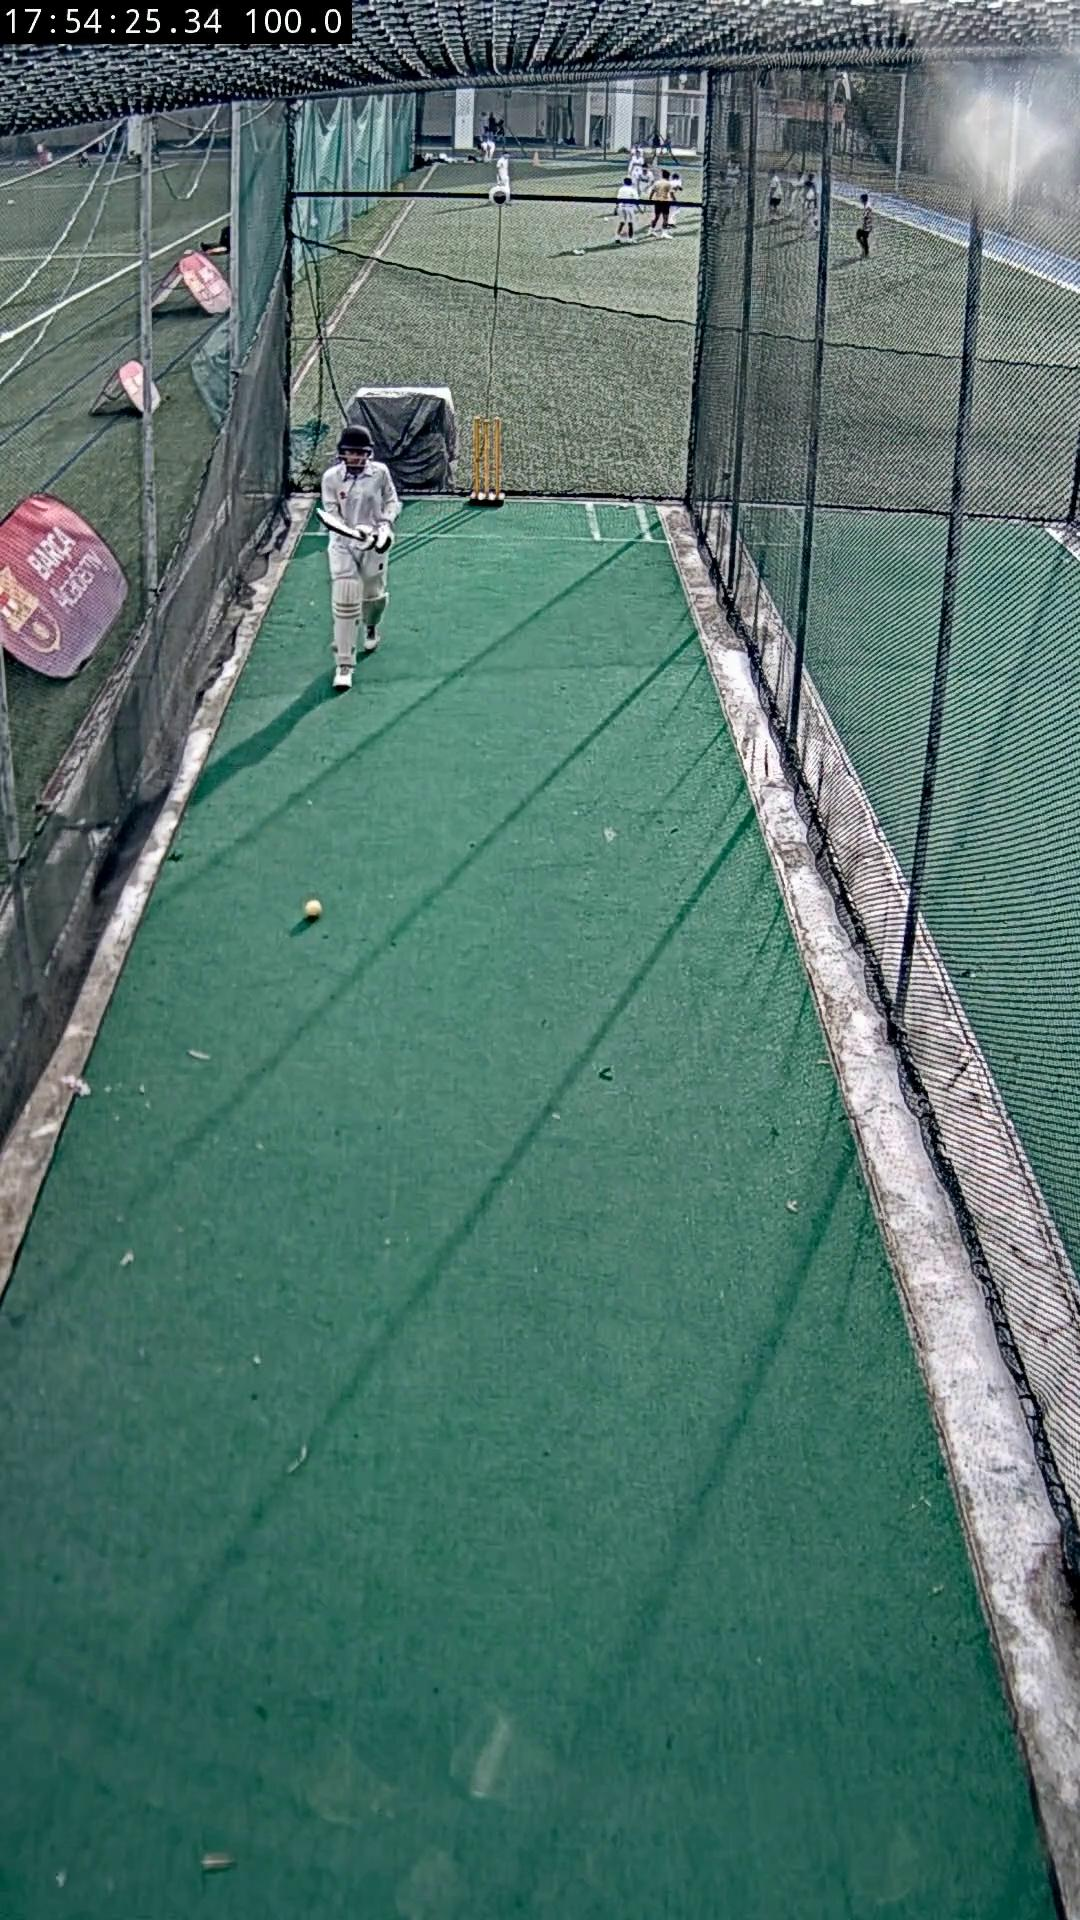ball: (303, 899, 323, 923)
bat: (315, 506, 372, 542)
gloves: (360, 524, 394, 553)
helmet: (338, 423, 372, 450)
pads: (330, 578, 364, 666), (364, 592, 386, 624)
stumps: (468, 417, 502, 506)
